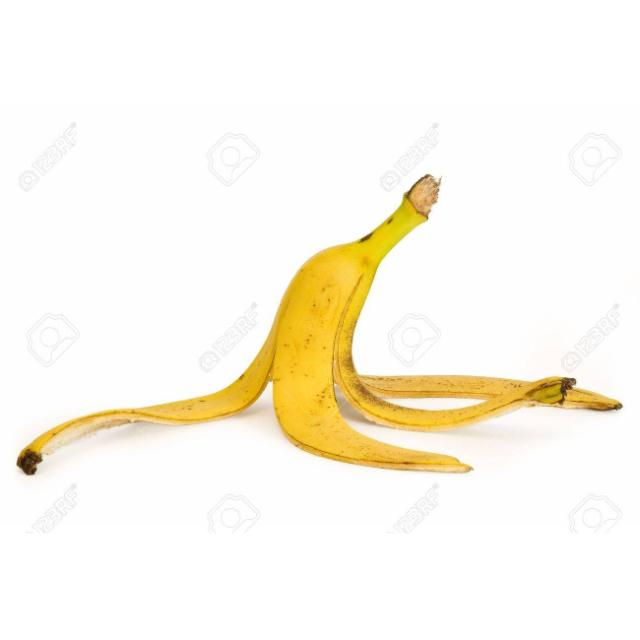organic: (3, 168, 640, 488)
